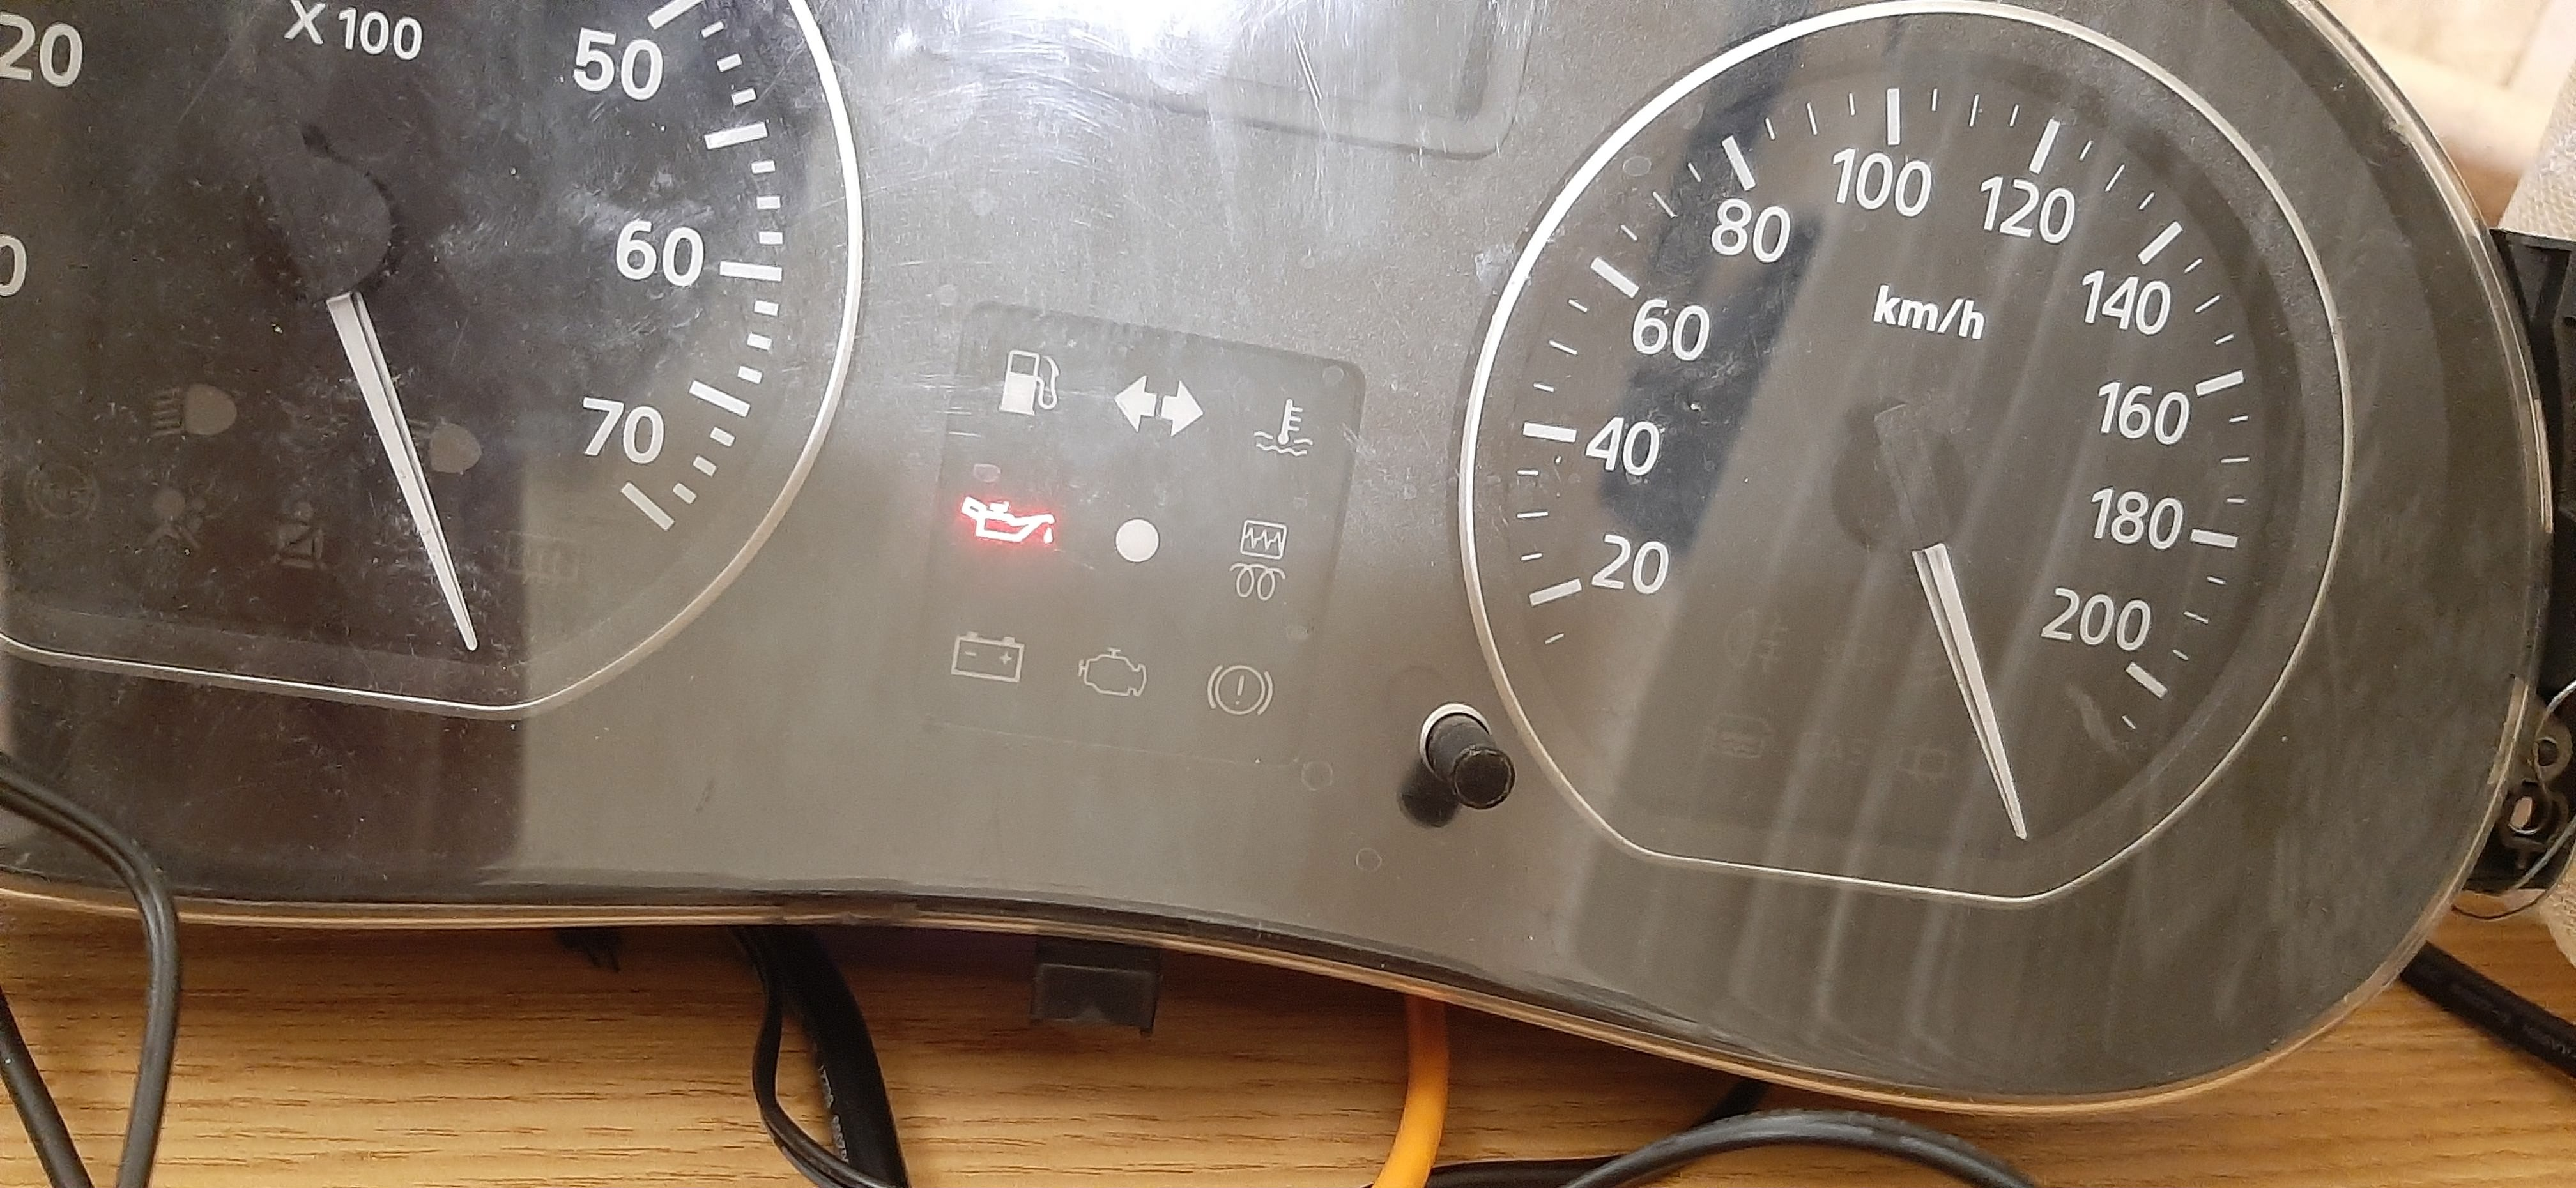oil14: (956, 493, 1061, 547)
